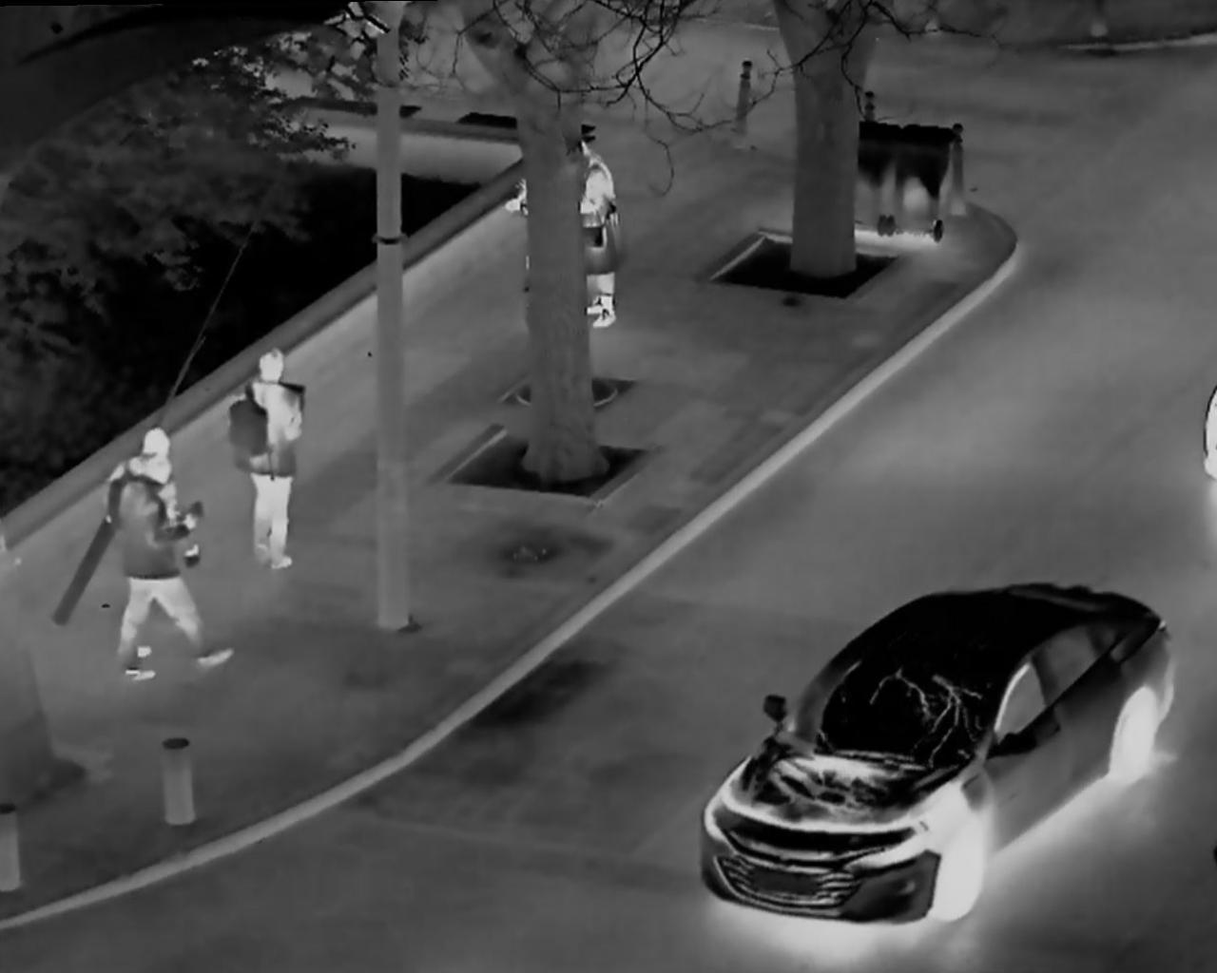person: (109, 431, 217, 689), (220, 344, 327, 578), (565, 140, 637, 330)
